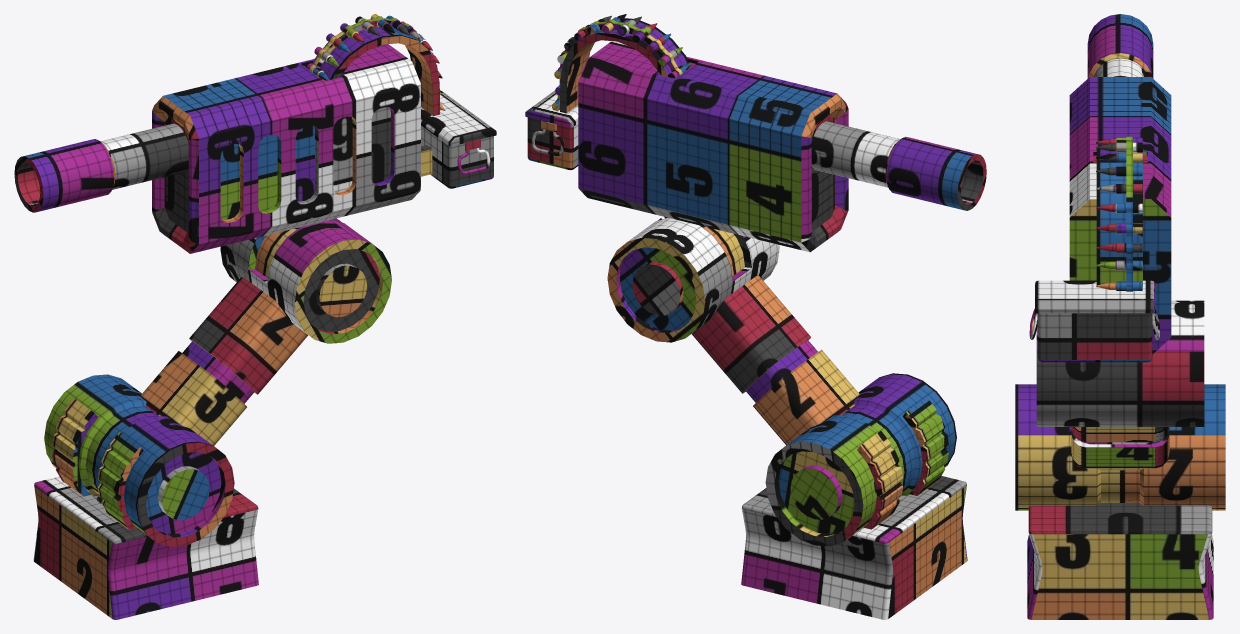
The model's file is SM_Turret_Ground_Air_Lvl_01.fbx.
The picture shows the model from 3 angles, left to right: view 1: azimuth 30°, elevation 25°; view 2: azimuth 150°, elevation 25°; view 3: azimuth 270°, elevation 25°; orthographic projection. The views are drawn at different scales.
Parts seen in each view (by area): view 1: SM_Gun_Turret_01, SM_Turret_Body_Base_01, SM_Turret_Body_Pivot_01, SM_Turret_Body_Pivot_02, SM_Turret_Body_Support_Turret_01, SM_Turret_Body_Protection_01, SM_Turret_Body_Protection_02; view 2: SM_Gun_Turret_01, SM_Turret_Body_Base_01, SM_Turret_Body_Pivot_01, SM_Turret_Body_Pivot_02, SM_Turret_Body_Support_Turret_01, SM_Turret_Body_Protection_02, SM_Turret_Body_Protection_01; view 3: SM_Gun_Turret_01, SM_Turret_Body_Base_01, SM_Turret_Body_Pivot_01, SM_Turret_Body_Pivot_02, SM_Turret_Body_Support_Turret_01.
Boxes of the visible parts, x1,y1,x2,y2 form: SM_Gun_Turret_01: (14,14,496,253); SM_Turret_Body_Base_01: (33,476,258,619); SM_Turret_Body_Pivot_01: (44,374,234,546); SM_Turret_Body_Pivot_02: (220,218,391,343); SM_Turret_Body_Support_Turret_01: (140,277,308,445); SM_Turret_Body_Protection_01: (52,398,97,496); SM_Turret_Body_Protection_02: (97,431,143,529); SM_Gun_Turret_01: (525,14,986,252); SM_Turret_Body_Base_01: (741,476,967,619); SM_Turret_Body_Pivot_01: (765,373,956,546); SM_Turret_Body_Pivot_02: (607,216,779,342); SM_Turret_Body_Support_Turret_01: (692,275,860,445); SM_Turret_Body_Protection_02: (902,397,948,495); SM_Turret_Body_Protection_01: (857,431,903,529); SM_Gun_Turret_01: (1029,14,1171,362); SM_Turret_Body_Base_01: (1027,503,1213,619); SM_Turret_Body_Pivot_01: (1015,384,1225,510); SM_Turret_Body_Pivot_02: (1036,300,1204,426); SM_Turret_Body_Support_Turret_01: (1071,427,1169,470).
Size of the model in its own units: 246 by 270 by 92.03.
Materials: 1 (1 with a texture image).
